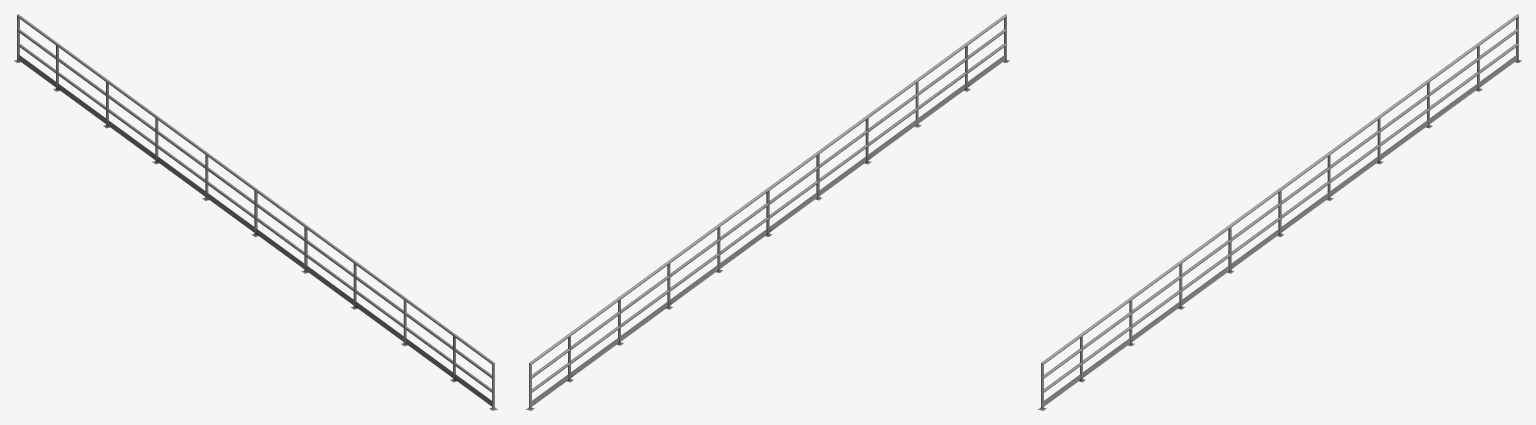
3 renders of one model, left to right at view 1: azimuth 30°, elevation 25°; view 2: azimuth 150°, elevation 25°; view 3: azimuth 330°, elevation 25°, orthographic.
Visible parts, largest first — view 1: body0_model0_lod0_mesh0; view 2: body0_model0_lod0_mesh0; view 3: body0_model0_lod0_mesh0.
Part boxes in pixels (x1=…): body0_model0_lod0_mesh0: x1=14, y1=14, x2=497, y2=410; body0_model0_lod0_mesh0: x1=526, y1=14, x2=1009, y2=410; body0_model0_lod0_mesh0: x1=1038, y1=14, x2=1521, y2=410.
Size of the model in its own units: 4.03 by 33.02 by 612.
Materials: 1 (1 with a texture image).
